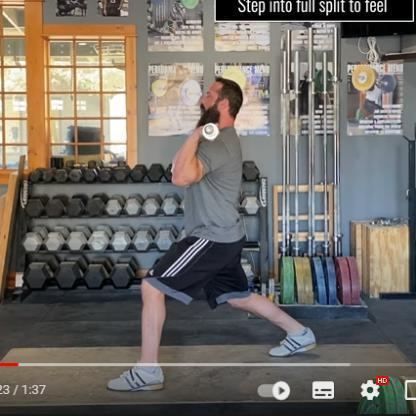Barbell: (205, 123, 217, 138)
